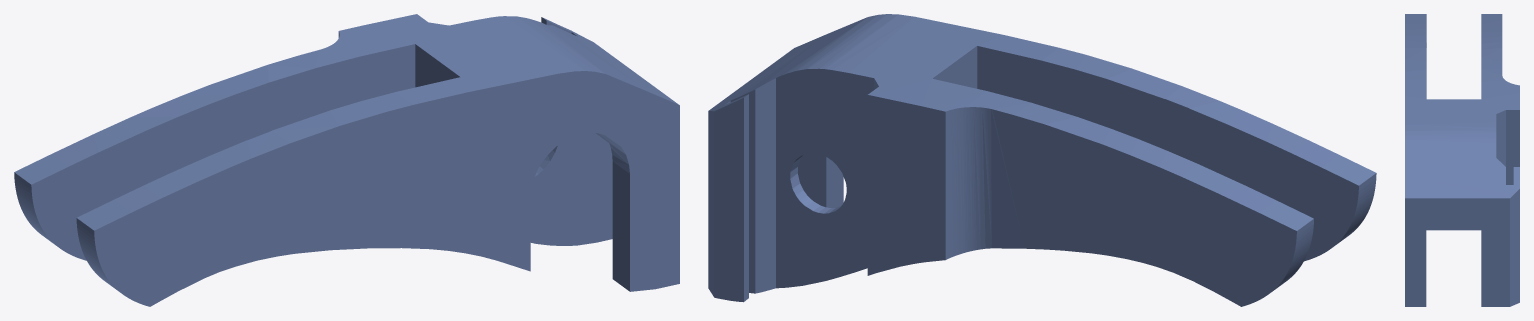
The model's file is 9-7-23-chain-guide-vf.glb.
3 renders of one model, left to right at view 1: azimuth 30°, elevation 25°; view 2: azimuth 150°, elevation 25°; view 3: azimuth 270°, elevation 25°, orthographic. The views are drawn at different scales.
Visible parts, largest first — view 1: Mesh_Mesh_head_geo.001_lambert2SG.001; view 2: Mesh_Mesh_head_geo.001_lambert2SG.001; view 3: Mesh_Mesh_head_geo.001_lambert2SG.001.
Part boxes in pixels (bbox=[...]): Mesh_Mesh_head_geo.001_lambert2SG.001: bbox=[14, 14, 679, 306]; Mesh_Mesh_head_geo.001_lambert2SG.001: bbox=[708, 14, 1376, 306]; Mesh_Mesh_head_geo.001_lambert2SG.001: bbox=[1405, 14, 1519, 306].
Size of the model in its own units: 82.36 by 32.8 by 23.
